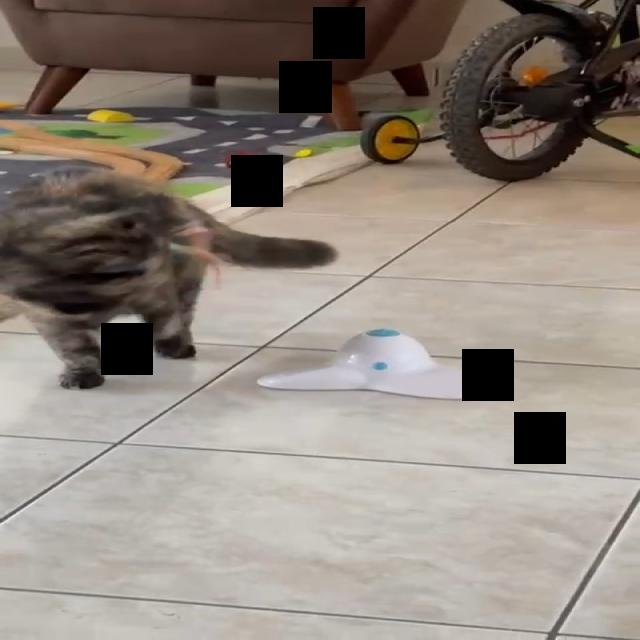authorized: (0, 166, 337, 390)
